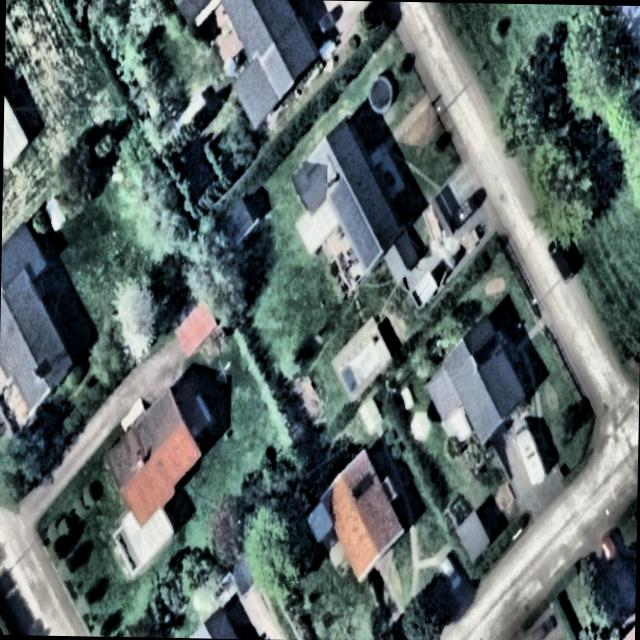roof_pv: (328, 175, 381, 267)
